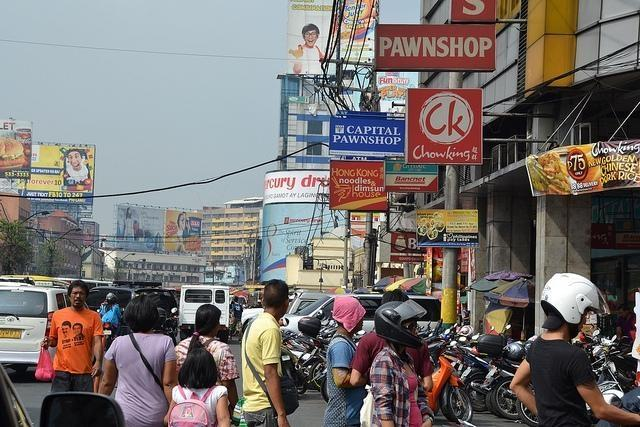car: (241, 292, 443, 334), (0, 284, 94, 367), (89, 287, 178, 314), (290, 294, 337, 314), (8, 275, 70, 287)
motorcycle: (458, 332, 522, 412), (426, 342, 474, 422), (586, 336, 634, 406), (480, 358, 520, 416), (298, 318, 329, 388), (280, 338, 314, 394), (492, 376, 535, 420), (96, 308, 125, 351), (504, 335, 540, 359), (423, 322, 459, 345), (162, 308, 178, 347), (417, 320, 435, 338)
truck: (179, 285, 230, 344)
